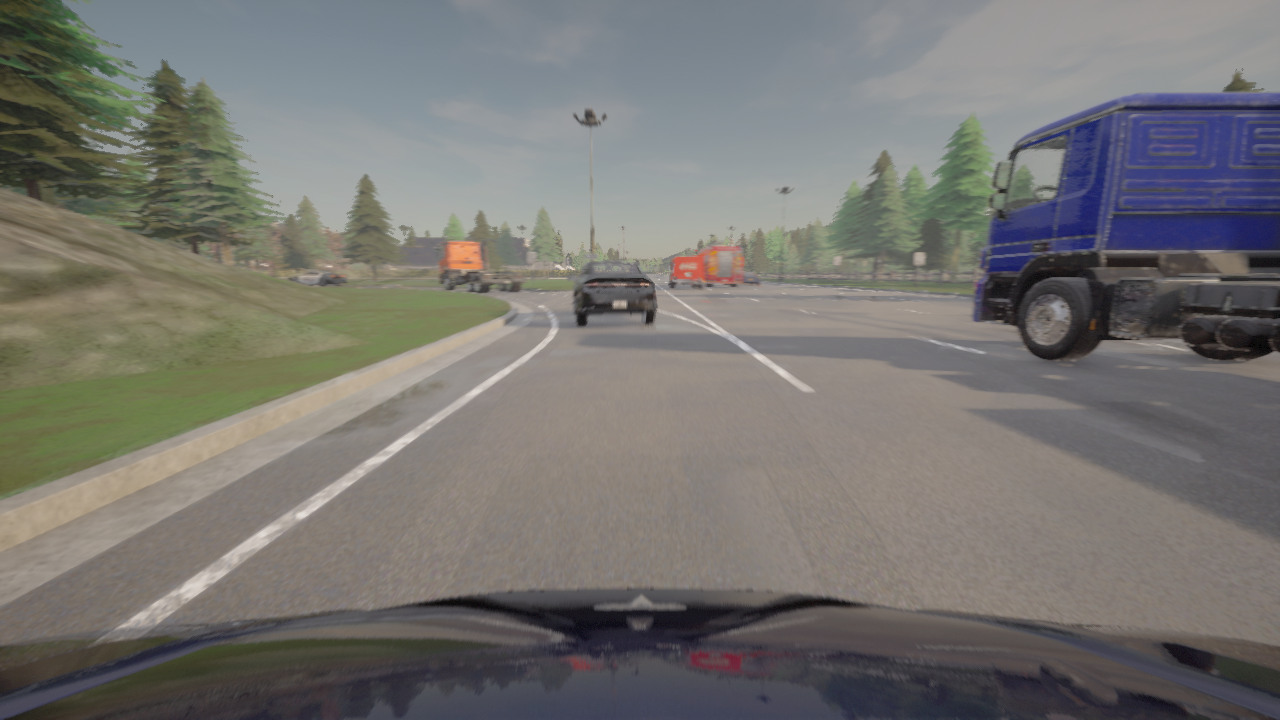cyclist: (0, 588, 1279, 719), (972, 92, 1279, 360), (568, 261, 655, 325), (435, 240, 525, 293), (697, 241, 741, 286), (667, 256, 704, 288), (288, 269, 346, 286), (738, 271, 759, 285)
